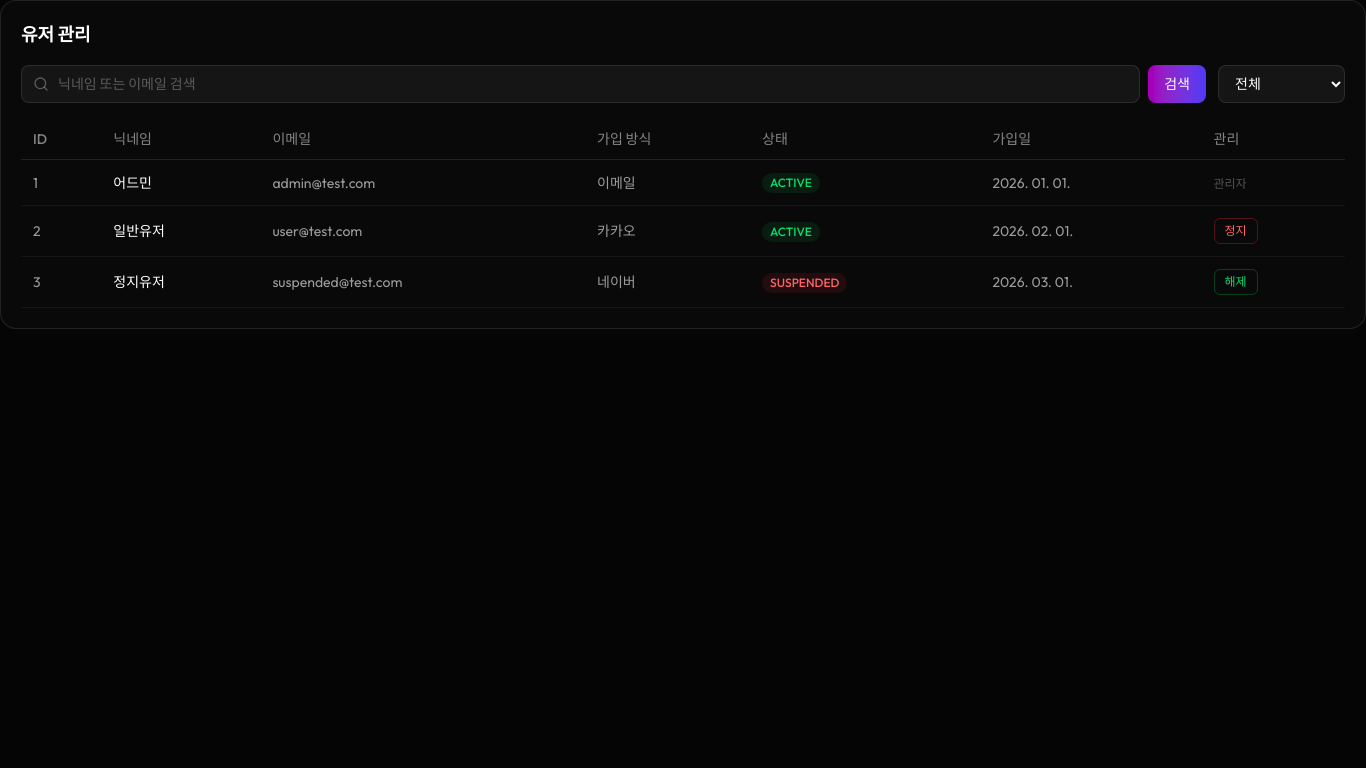
Test: UserManagement › 확인 모달에서 취소 버튼 클릭 시 모달을 닫아야 한다
The image size is (1366, 768).
Click the button "정지".
click(1236, 231)  # box 1214,218 -> 1258,244
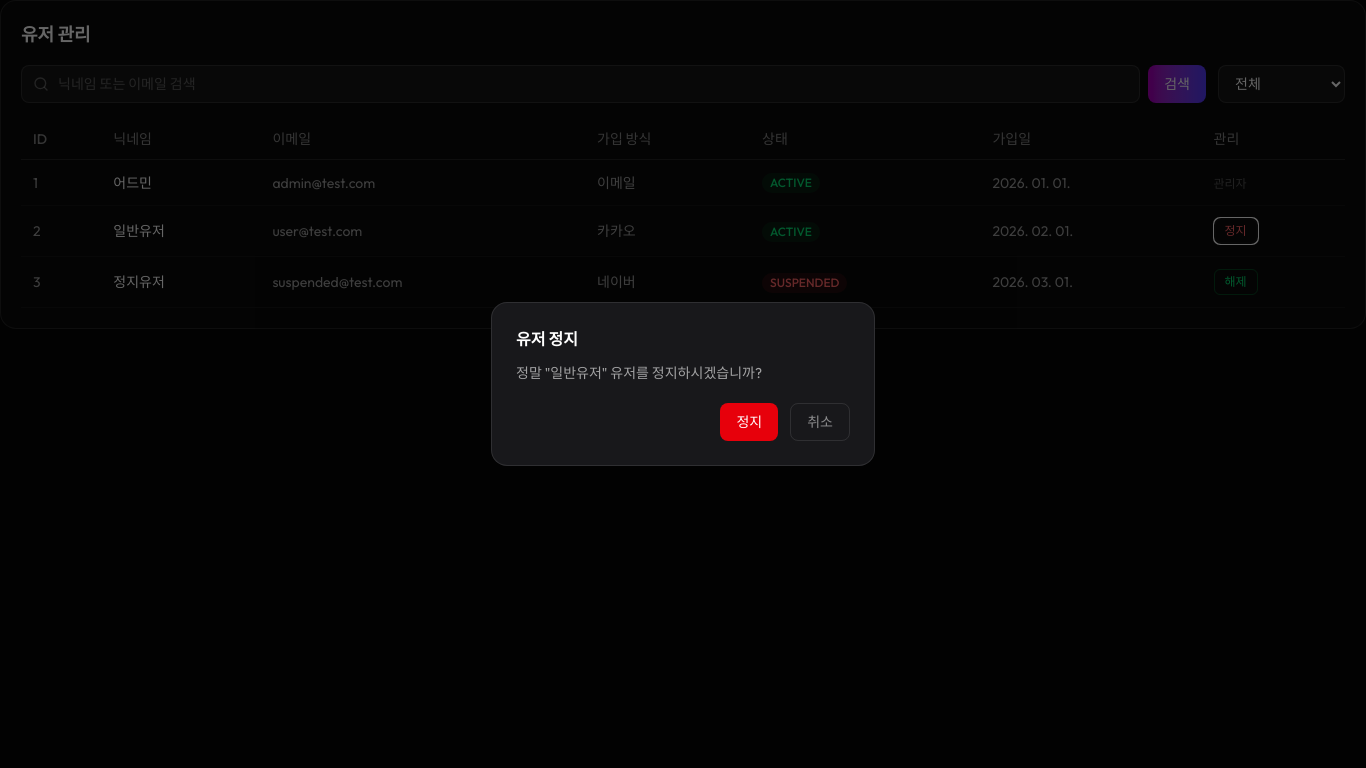
Check: the button "취소" is shown
Click the button "취소".
click(820, 422)  # box 790,403 -> 850,441
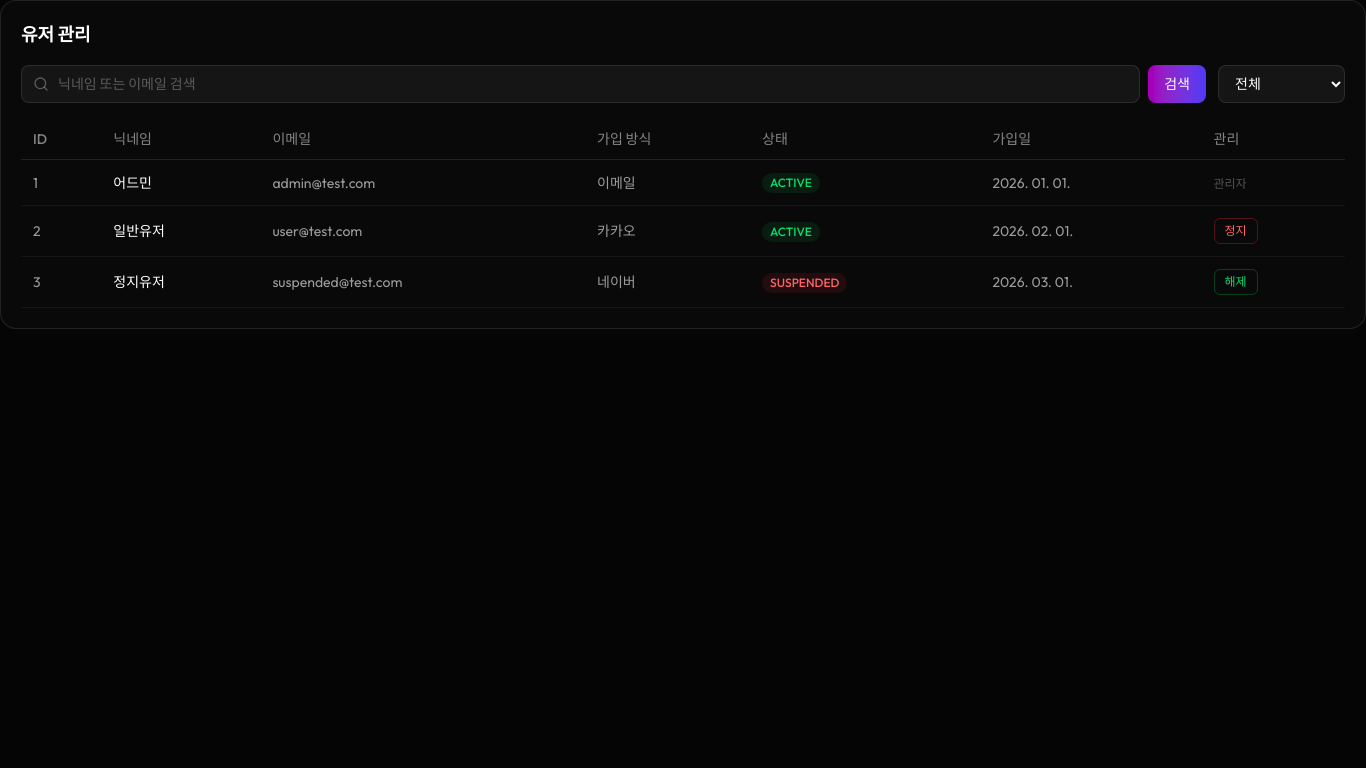
Check: the text "정말 \"일반유저\" 유저를 정지하시겠습니까?" is gone
